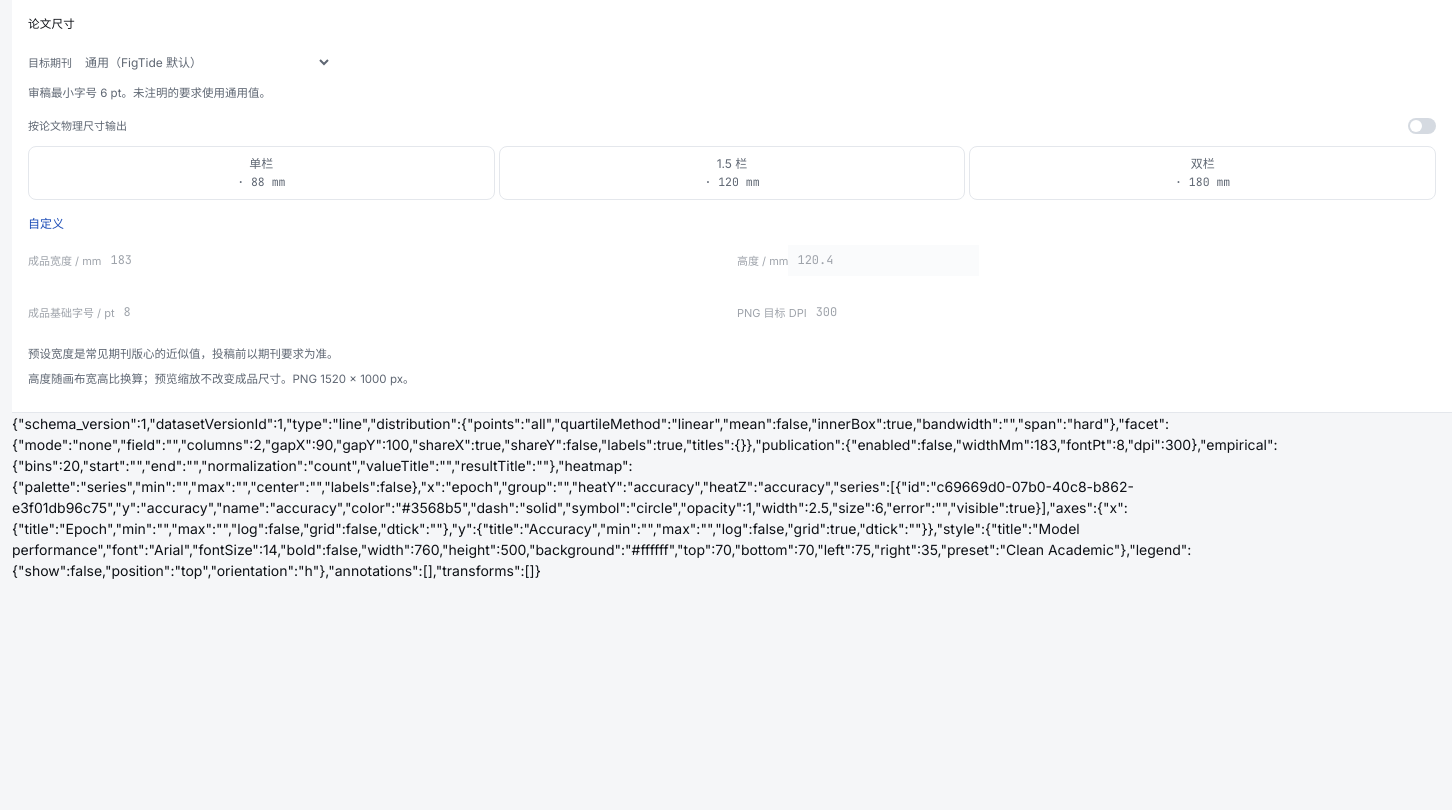
Test: property presets enable physical output, readonly height and clamped custom fields
The image size is (1452, 810).
Step 1. Click the button "双栏 · 180 mm" → [1203, 173], box [969,146,1436,200]
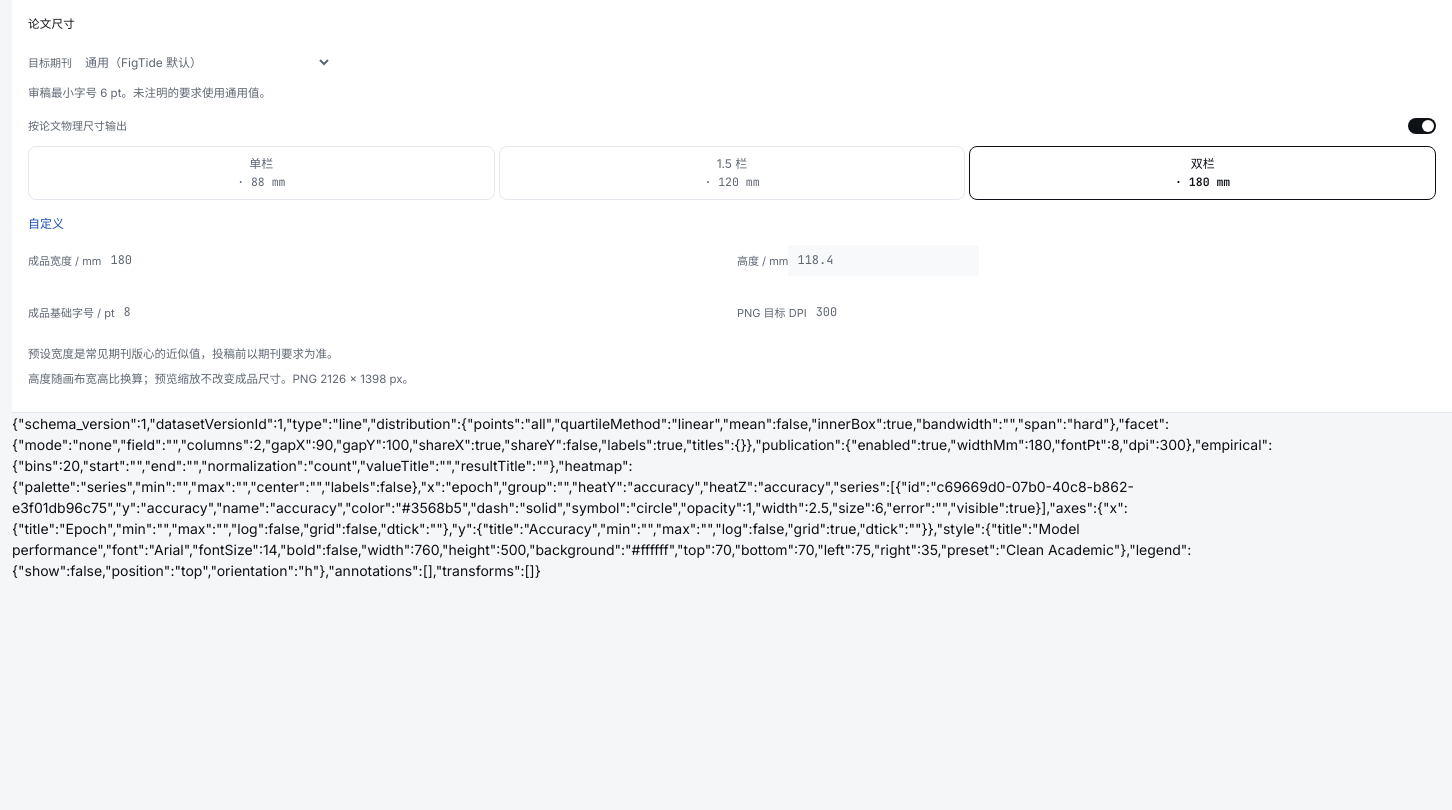
Result: the switch is checked at [1408,118,1436,134]
Result: the number field labelled "成品宽度 / mm" holds "180" at [101,244,198,276]
Step 2. Click the button "自定义" → [46, 224], box [28,214,64,232]
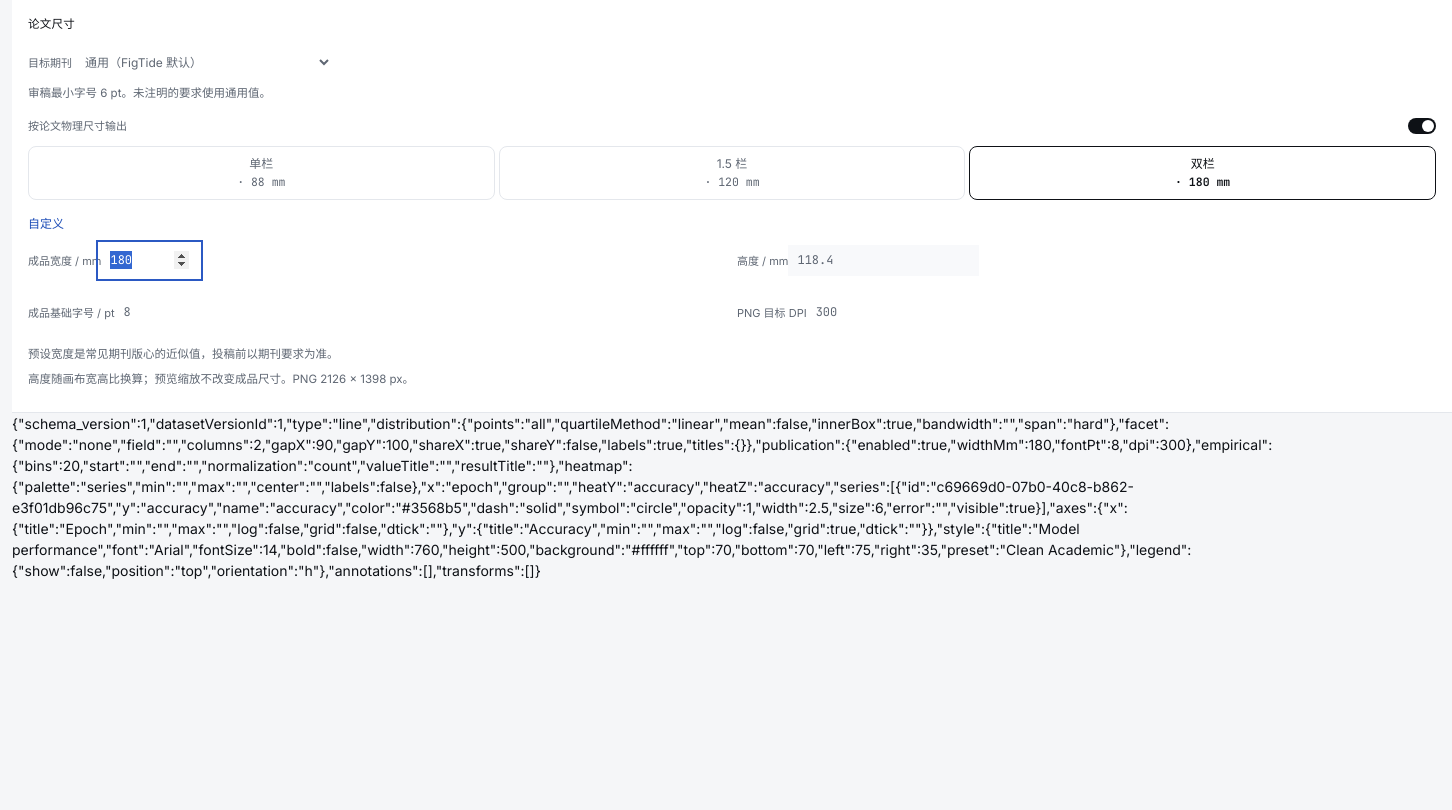
Step 3. Replace the text in the number field labelled "成品宽度 / mm" with "400" → [150, 260], box [101,244,198,276]
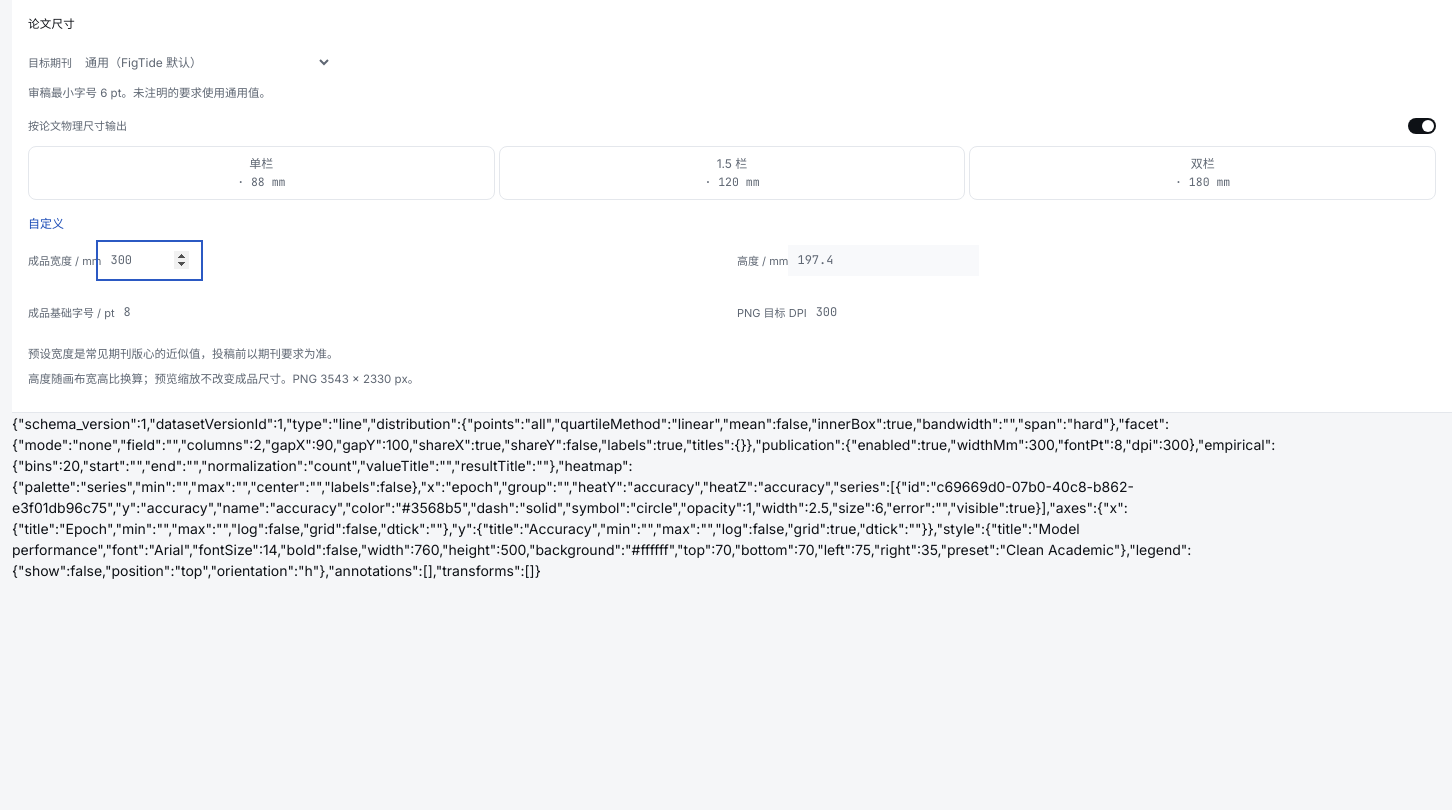
Result: the number field labelled "成品宽度 / mm" holds "300" at [101,244,198,276]
Step 4. Replace the text in the number field labelled "成品基础字号 / pt" with "2" → [160, 312], box [114,296,204,328]
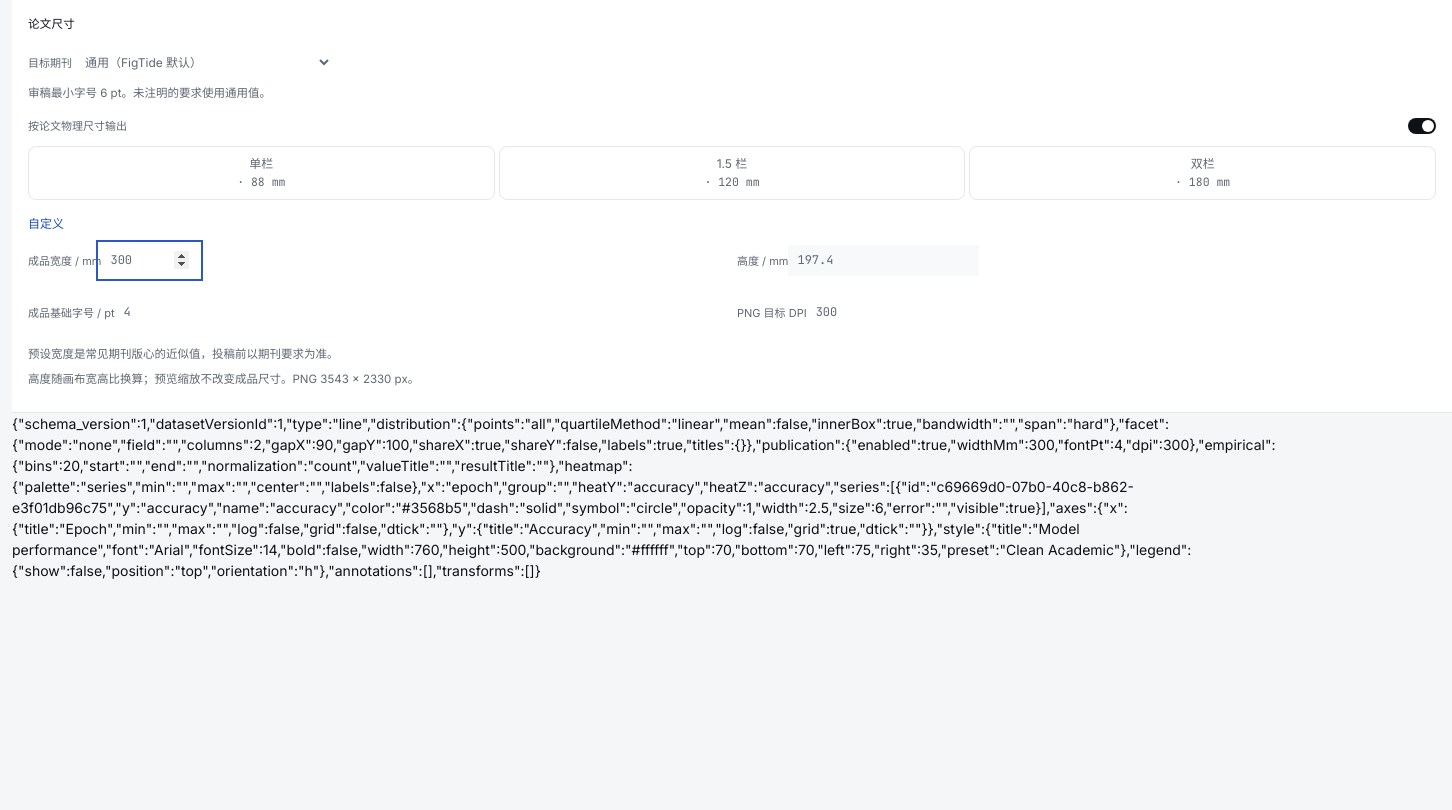
Result: the number field labelled "成品基础字号 / pt" holds "4" at [114,296,204,328]
Step 5. Replace the text in the number field labelled "PNG 目标 DPI" with "2000" → [852, 312], box [807,296,897,328]
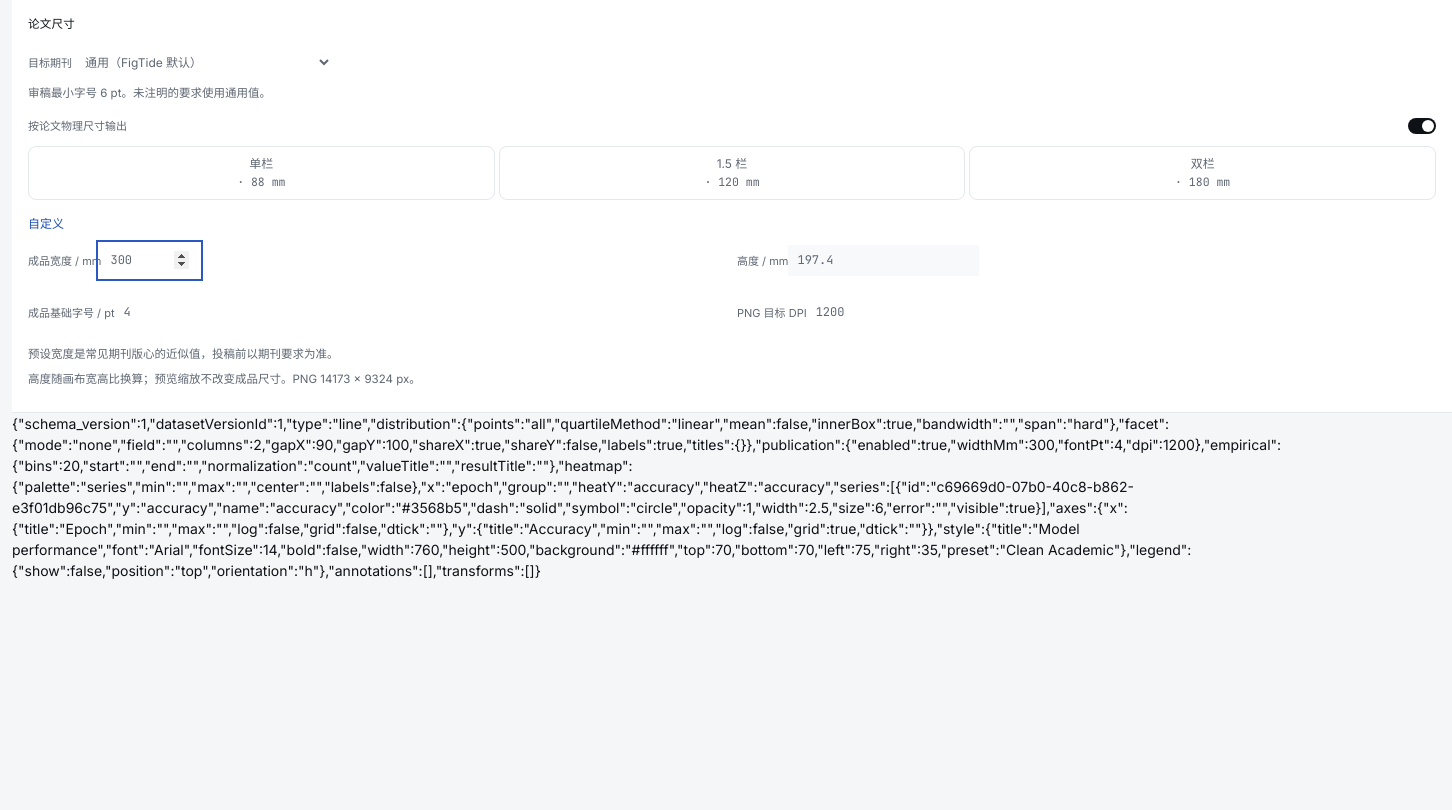
Result: the number field labelled "PNG 目标 DPI" holds "1200" at [807,296,897,328]
